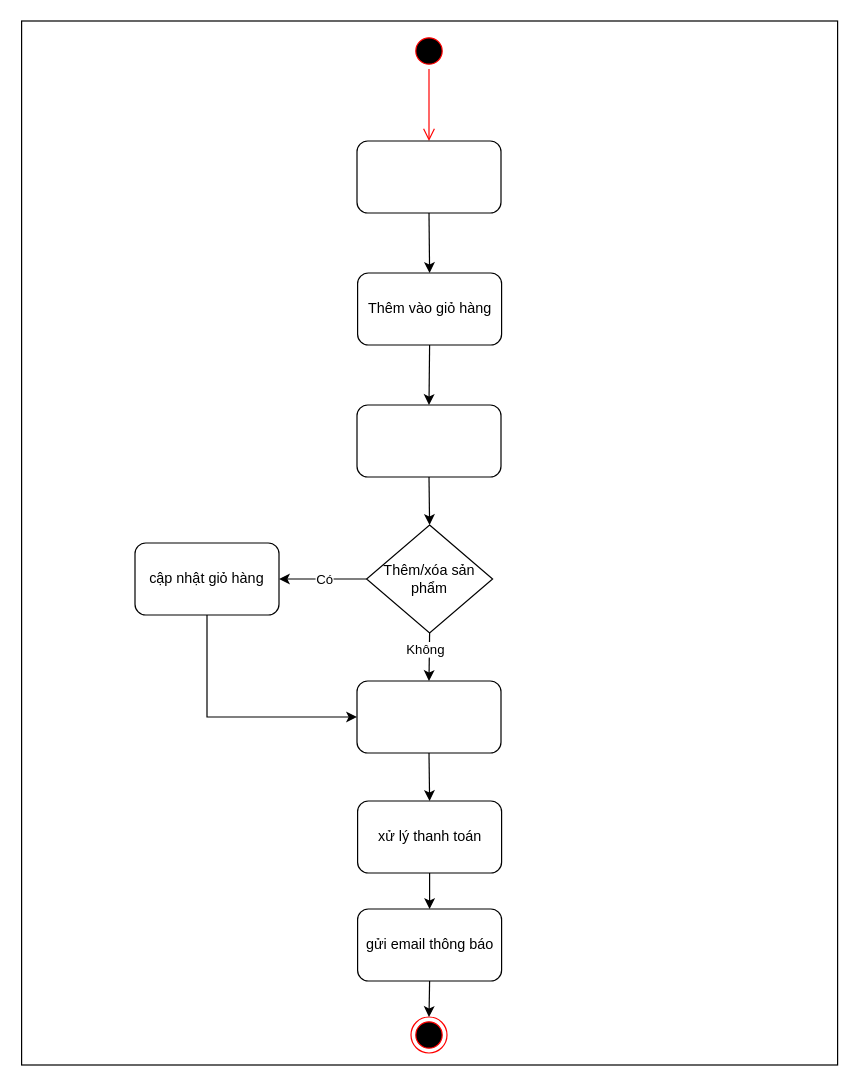
Some shapes in this 858 by 1086 pixel diagram are drawn without their labels. The centre of each missing label's shape, as x and y in pixels:
Cập nhật bảng tổng hợp: (x=428, y=440)
Người dùng nhấn nút mua hàng: (x=428, y=176)
Nhấn nút thanh toán: (x=428, y=716)
